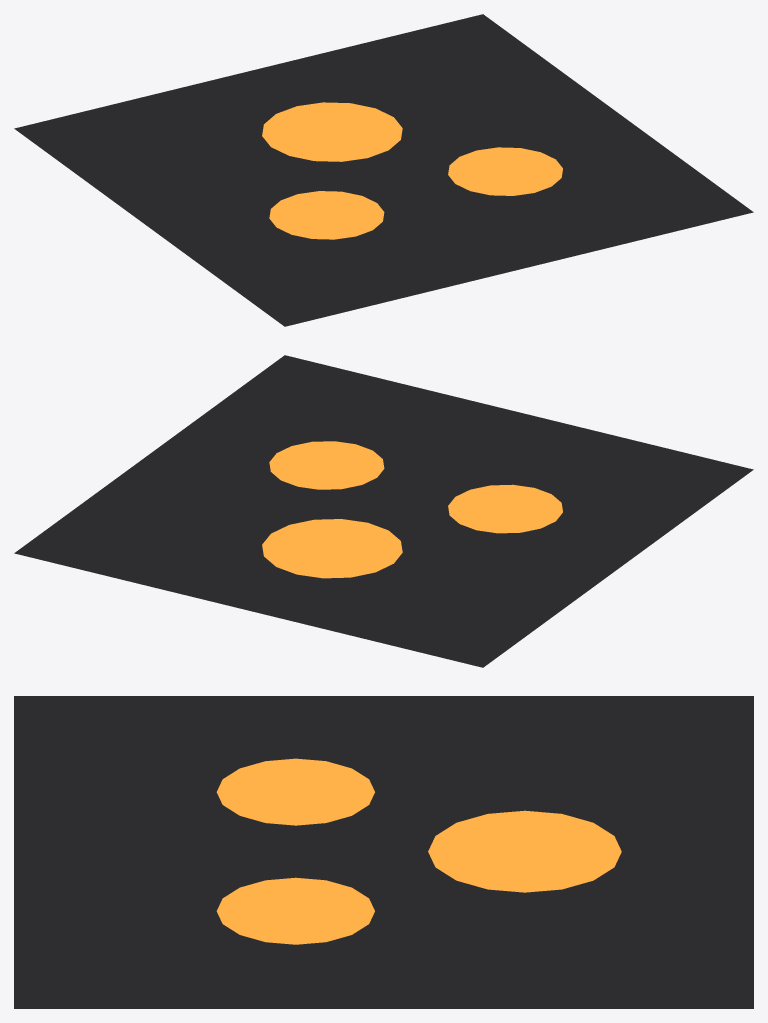
The picture shows the model from 3 angles, top to bottom: view 1: azimuth 30°, elevation 25°; view 2: azimuth 150°, elevation 25°; view 3: azimuth 270°, elevation 25°; orthographic projection. The views are drawn at different scales.
Parts seen in each view (by area): view 1: scenario_base_floor, LT_03; view 2: scenario_base_floor, LT_03; view 3: scenario_base_floor, LT_03.
Boxes of the visible parts, x1,y1,x2,y2 form: scenario_base_floor: [14, 14, 753, 326]; LT_03: [262, 102, 562, 239]; scenario_base_floor: [14, 355, 753, 667]; LT_03: [262, 441, 562, 578]; scenario_base_floor: [14, 696, 753, 1008]; LT_03: [216, 758, 621, 944].
Size of the model in its own units: 42 by 0.05 by 42.
